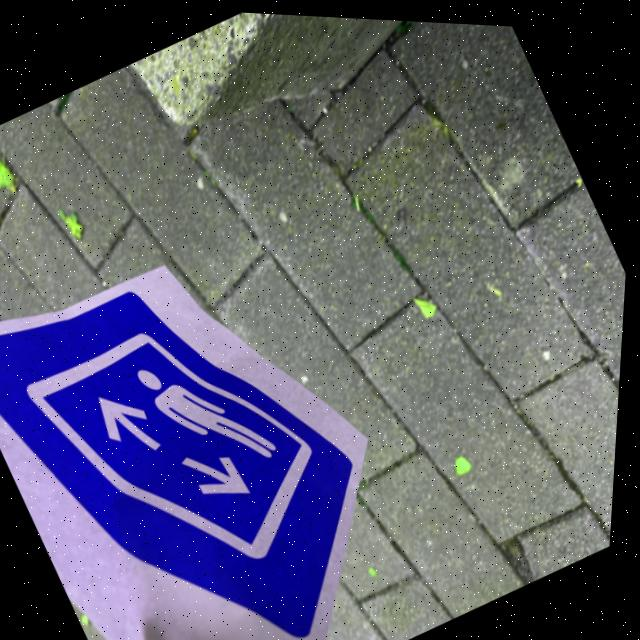elevator: (0, 289, 350, 640)
